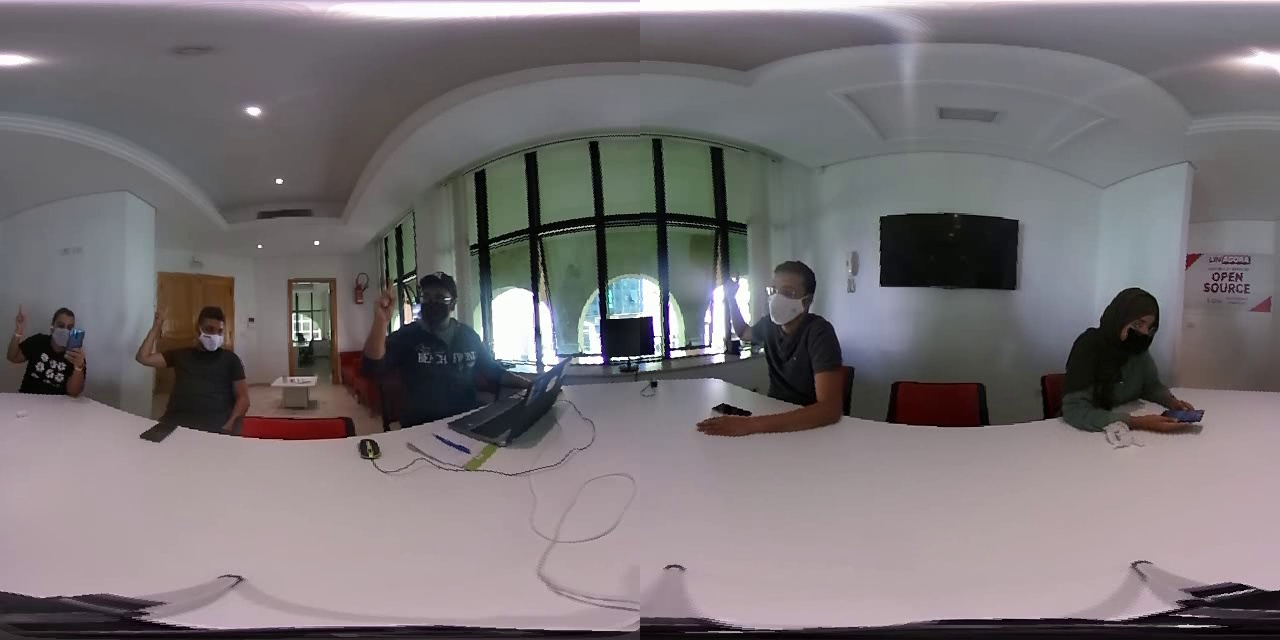person: (690, 245, 854, 445), (1046, 264, 1201, 443), (348, 259, 513, 423), (125, 285, 256, 440), (2, 281, 102, 401)
speaking: (356, 269, 399, 376), (134, 291, 179, 372), (713, 261, 753, 349), (5, 295, 32, 372)
